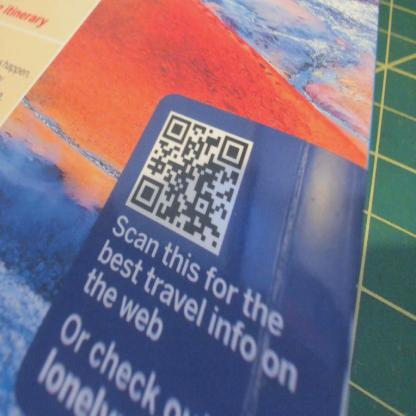qr: (126, 107, 250, 259)
